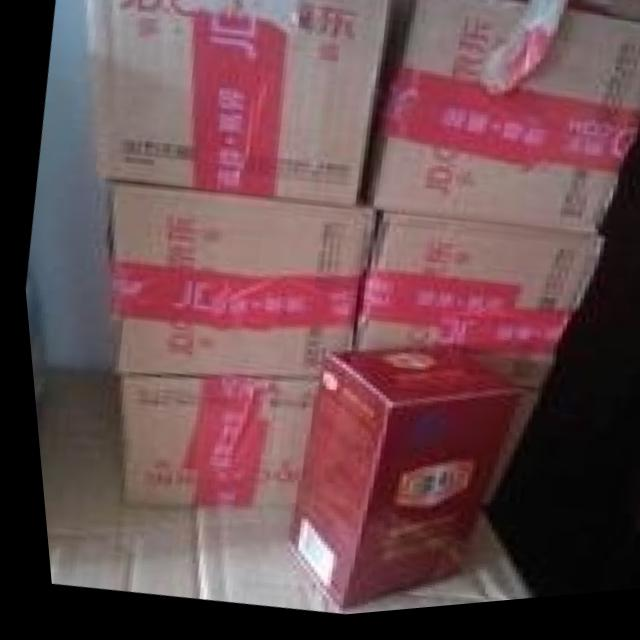box: (29, 370, 330, 616), (351, 0, 640, 245), (85, 0, 389, 211), (99, 182, 375, 382), (348, 215, 601, 398), (107, 379, 314, 509), (474, 396, 532, 519)
